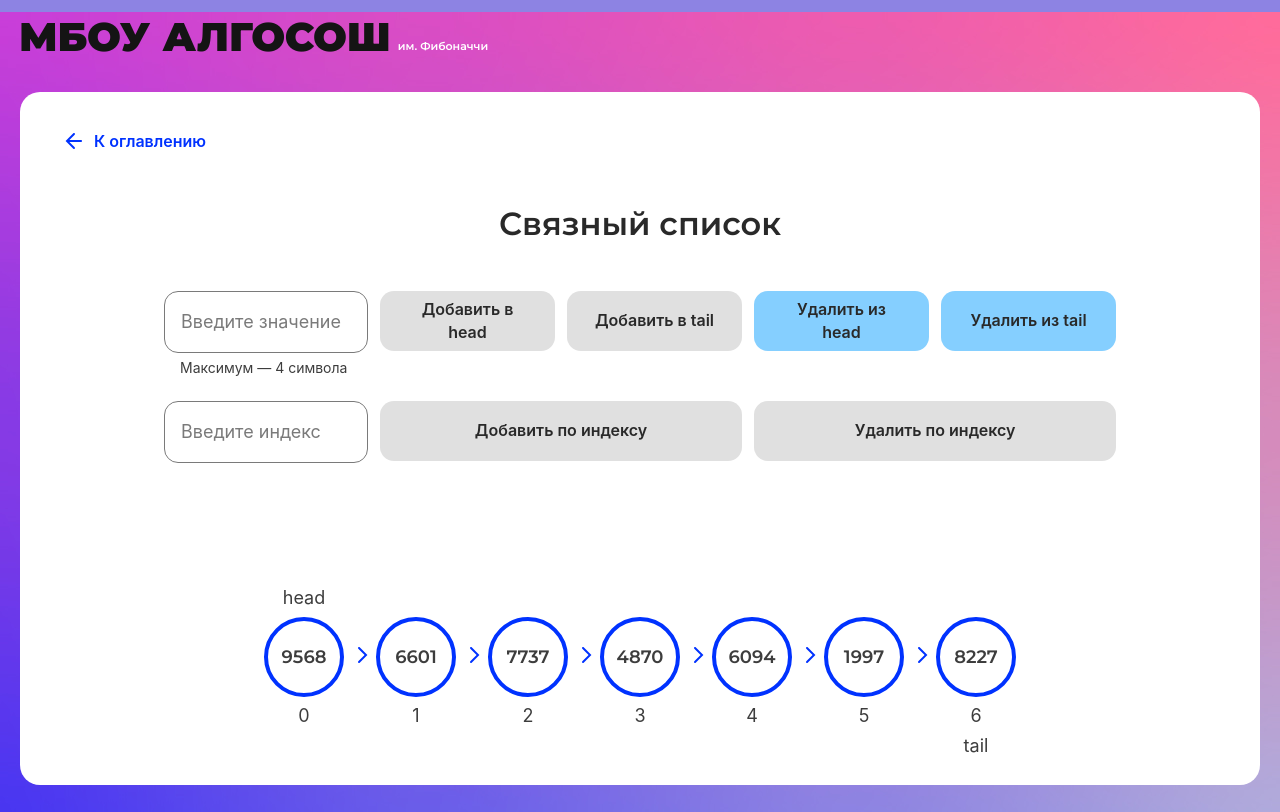
Test case: List Page › should add an element to the head with different circle colors
This screenshot has width=1280, height=812.
Type "111" into the field with test id "main-input".
click(266, 322); type("111")  # box [164, 291, 368, 353]
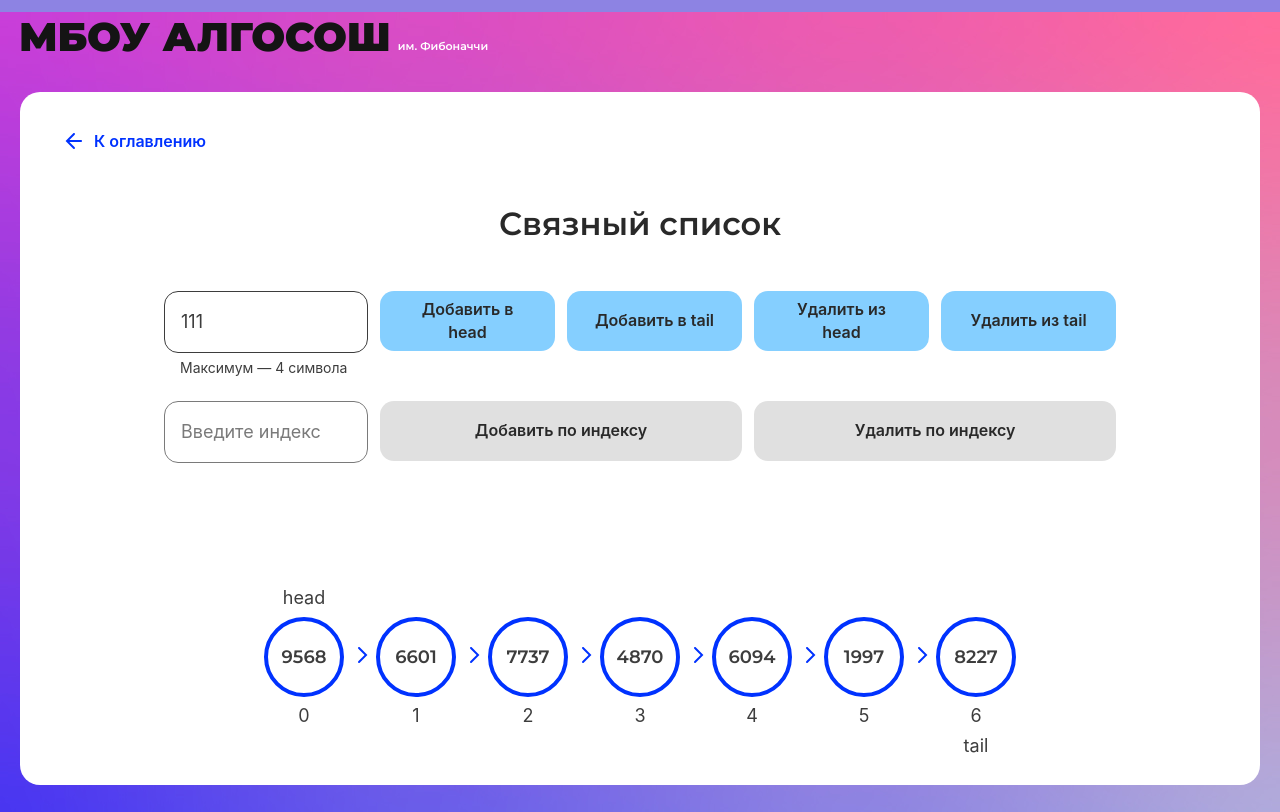
Click the button with test id "btn-addToHead".
click(468, 321)  # box [380, 291, 555, 351]
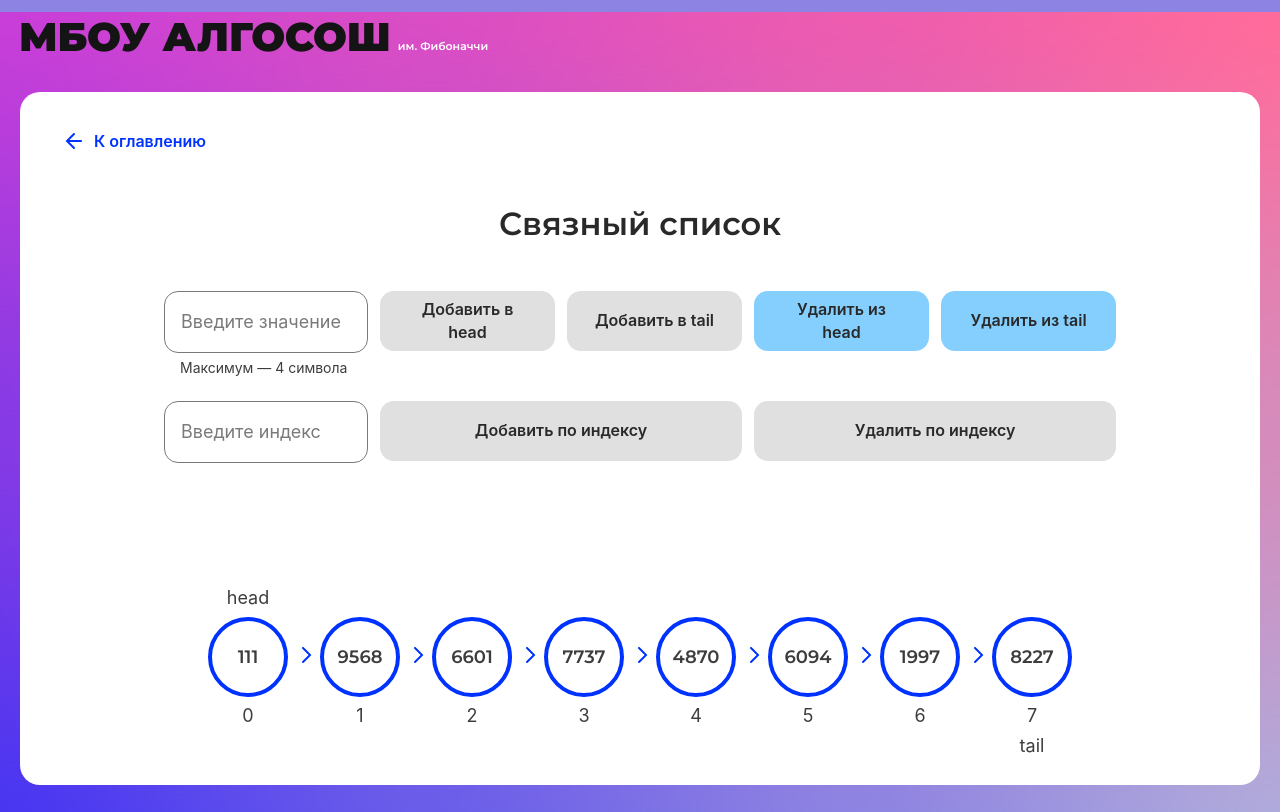
Now the element with test id "circle" reads "111", box [208, 617, 288, 697]
